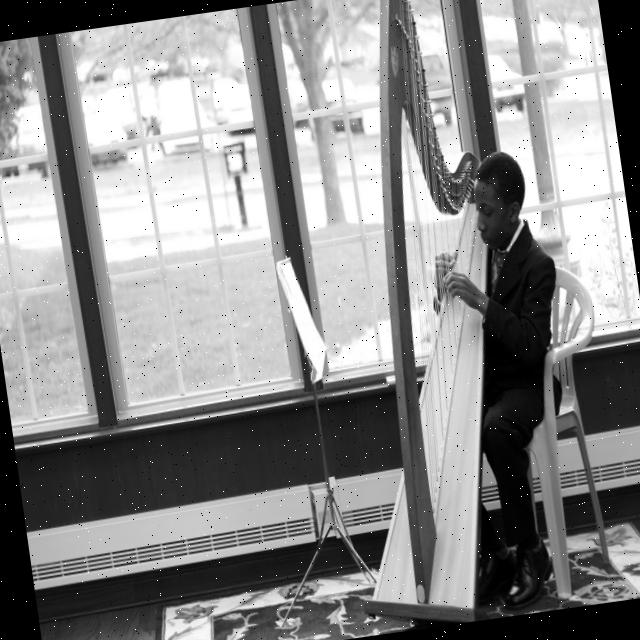harp: (279, 0, 546, 635)
